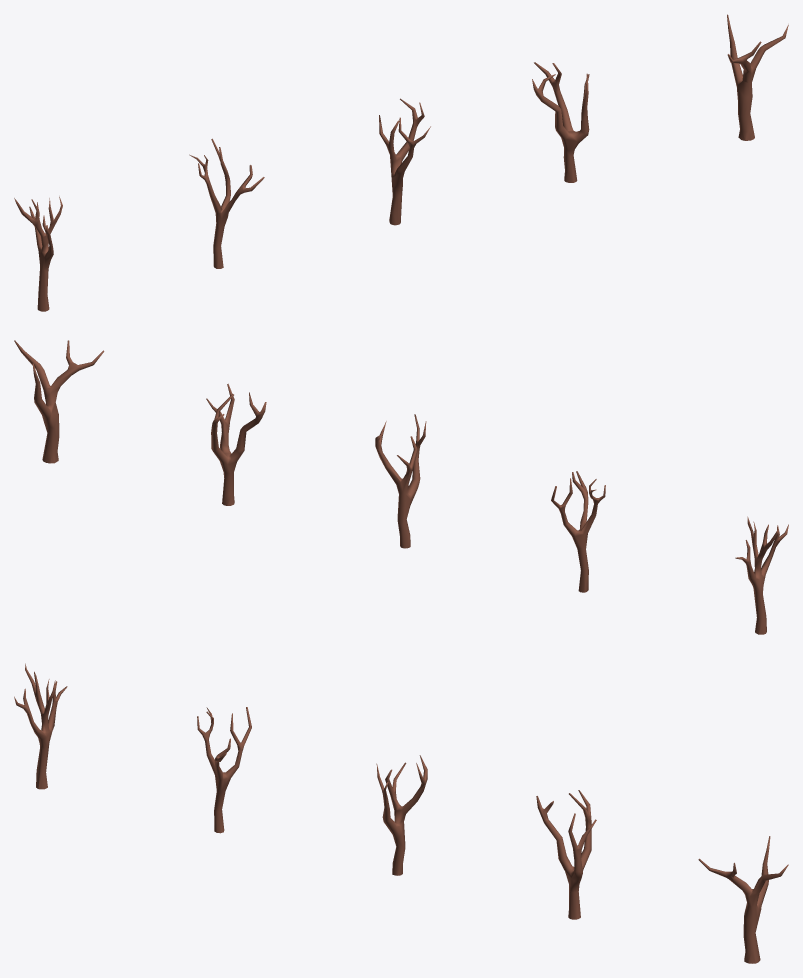
Rendered from deadTrees.glb.
3 views of the same model, one above another, from view 1: azimuth 30°, elevation 25°; view 2: azimuth 150°, elevation 25°; view 3: azimuth 330°, elevation 25° (orthographic).
Visible parts, largest first — view 1: DeadTree2, DeadTree1, DeadTree3, DeadTree4, DeadTree5; view 2: DeadTree1, DeadTree2, DeadTree3, DeadTree5, DeadTree4; view 3: DeadTree2, DeadTree1, DeadTree3, DeadTree5, DeadTree4.
Part boxes in pixels (left/top/right/bottom): DeadTree2: left=532, top=62, right=589, bottom=182; DeadTree1: left=727, top=14, right=788, bottom=140; DeadTree3: left=379, top=98, right=430, bottom=225; DeadTree4: left=189, top=138, right=264, bottom=268; DeadTree5: left=14, top=196, right=62, bottom=311; DeadTree1: left=14, top=340, right=104, bottom=463; DeadTree2: left=206, top=383, right=266, bottom=505; DeadTree3: left=375, top=414, right=426, bottom=548; DeadTree5: left=735, top=516, right=788, bottom=634; DeadTree4: left=551, top=471, right=605, bottom=592; DeadTree2: left=536, top=790, right=596, bottom=919; DeadTree1: left=698, top=836, right=788, bottom=963; DeadTree3: left=376, top=755, right=427, bottom=875; DeadTree5: left=14, top=663, right=67, bottom=789; DeadTree4: left=197, top=707, right=251, bottom=833.
Size of the model in its own units: 43.58 by 6.44 by 4.29.
